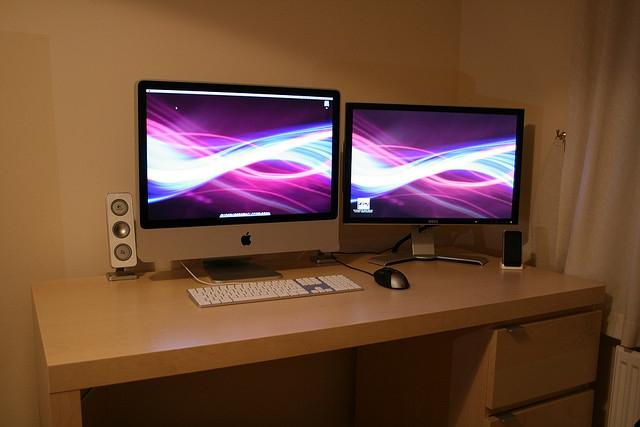apple: (241, 231, 251, 246)
